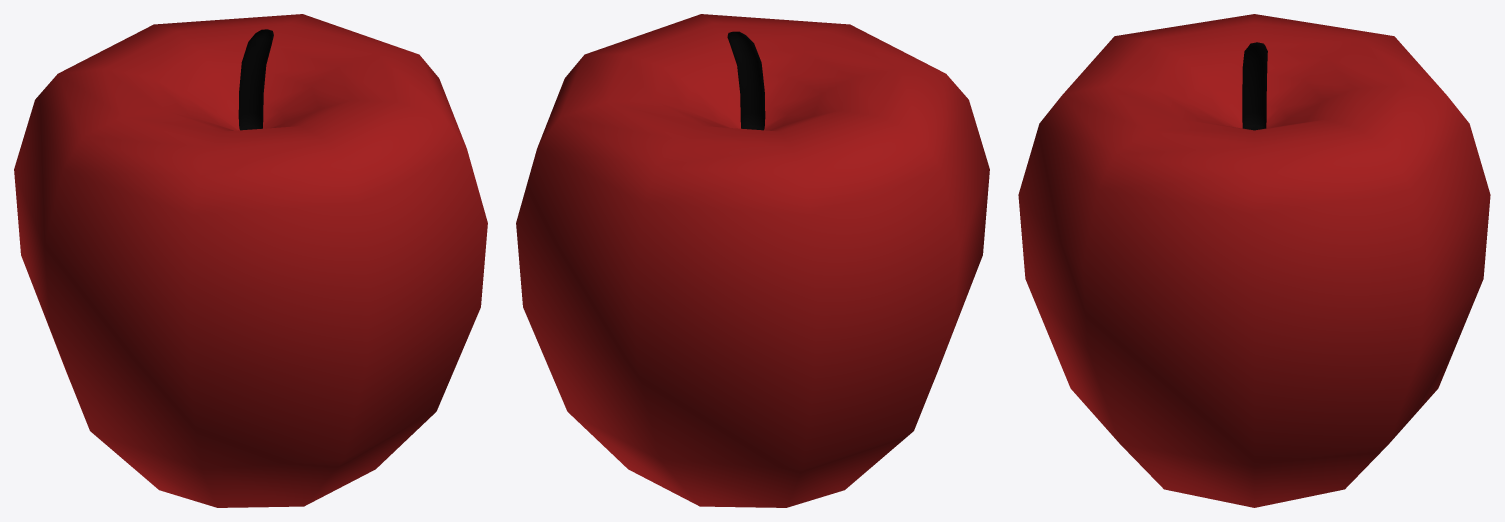
The model's file is Apple.fbx.
The picture shows the model from 3 angles, left to right: view 1: azimuth 30°, elevation 25°; view 2: azimuth 150°, elevation 25°; view 3: azimuth 270°, elevation 25°; orthographic projection.
Visible parts, largest first — view 1: Apple; view 2: Apple; view 3: Apple.
Part boxes in pixels (box(x1,y1,x2,y2)): Apple: box(14, 14, 487, 507); Apple: box(516, 14, 989, 507); Apple: box(1018, 14, 1490, 507).
Bounding box in the file's own units: 0.3141 × 0.3335 × 0.3141.
